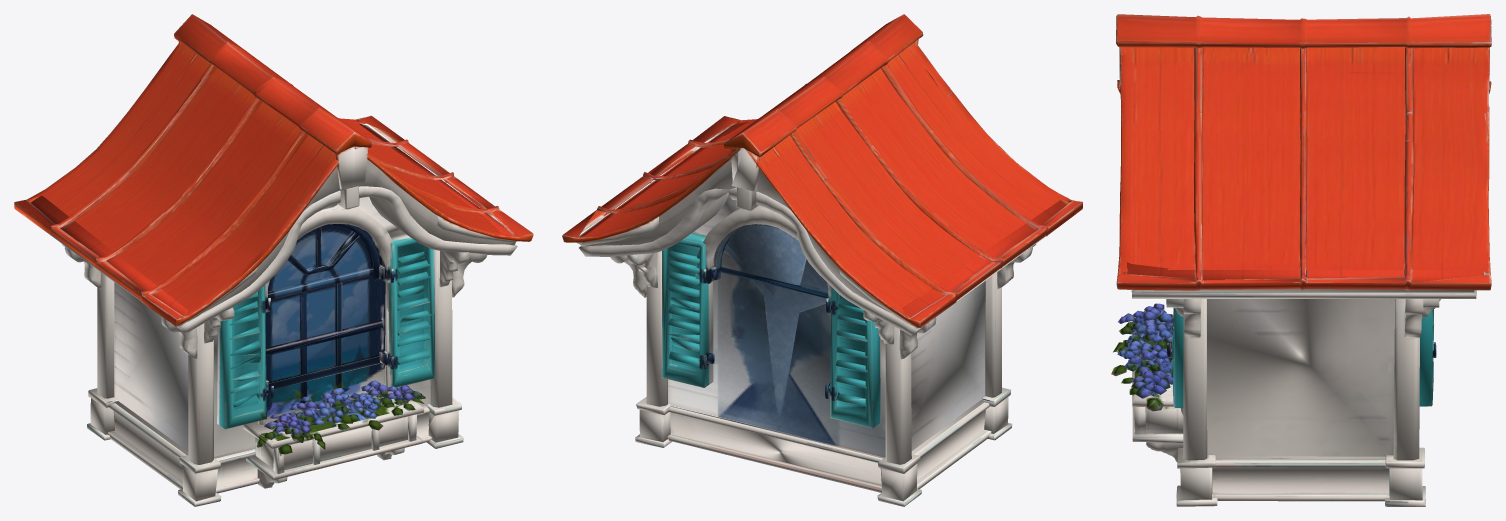
File: dormer.glb
3 views of the same model, side by side, from view 1: azimuth 30°, elevation 25°; view 2: azimuth 150°, elevation 25°; view 3: azimuth 270°, elevation 25° (orthographic). The views are drawn at different scales.
Parts seen in each view (by area): view 1: dormer_LOD0; view 2: dormer_LOD0; view 3: dormer_LOD0.
Boxes of the visible parts, x1,y1,x2,y2 form: dormer_LOD0: [14, 14, 533, 506]; dormer_LOD0: [562, 14, 1082, 506]; dormer_LOD0: [1111, 14, 1491, 506].
Size of the model in its own units: 1 by 0.9689 by 0.8013.
1 material, 1 textured.
